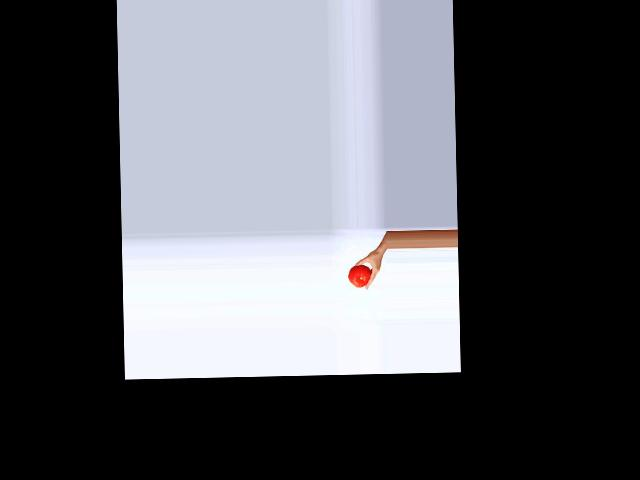tomato: (348, 265, 370, 288)
